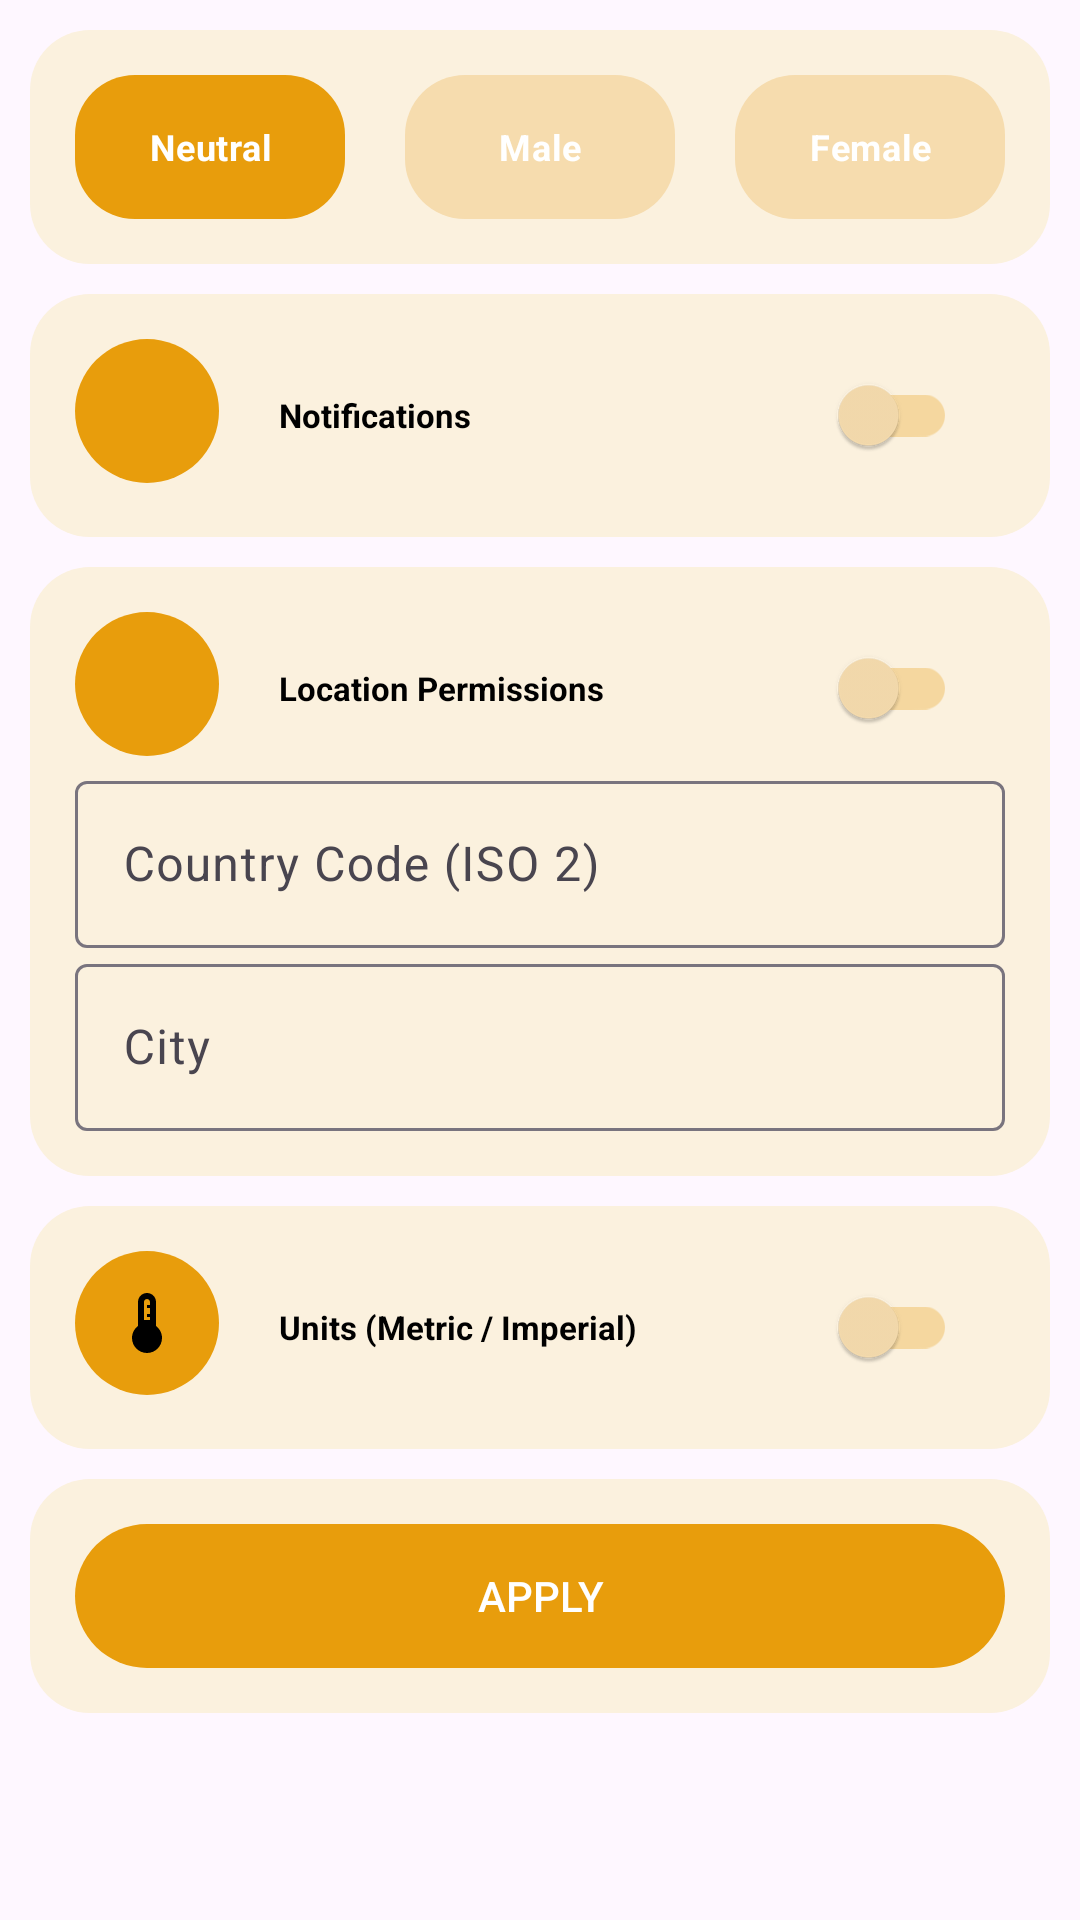

Named icons in this screenshot (1080×1920) and their centers, (x=x, y=y):
thermostat: (x=147, y=1323)
